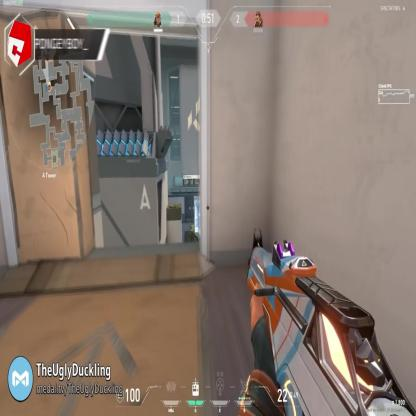enemy: (189, 219, 197, 242)
enemy_head: (190, 221, 193, 227)
